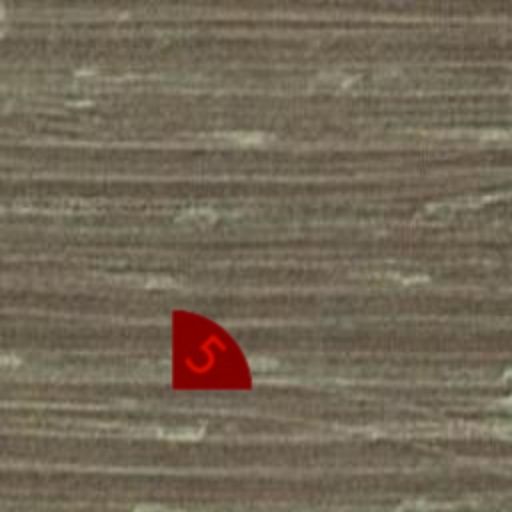quarter_circle: (128, 278, 284, 434)
